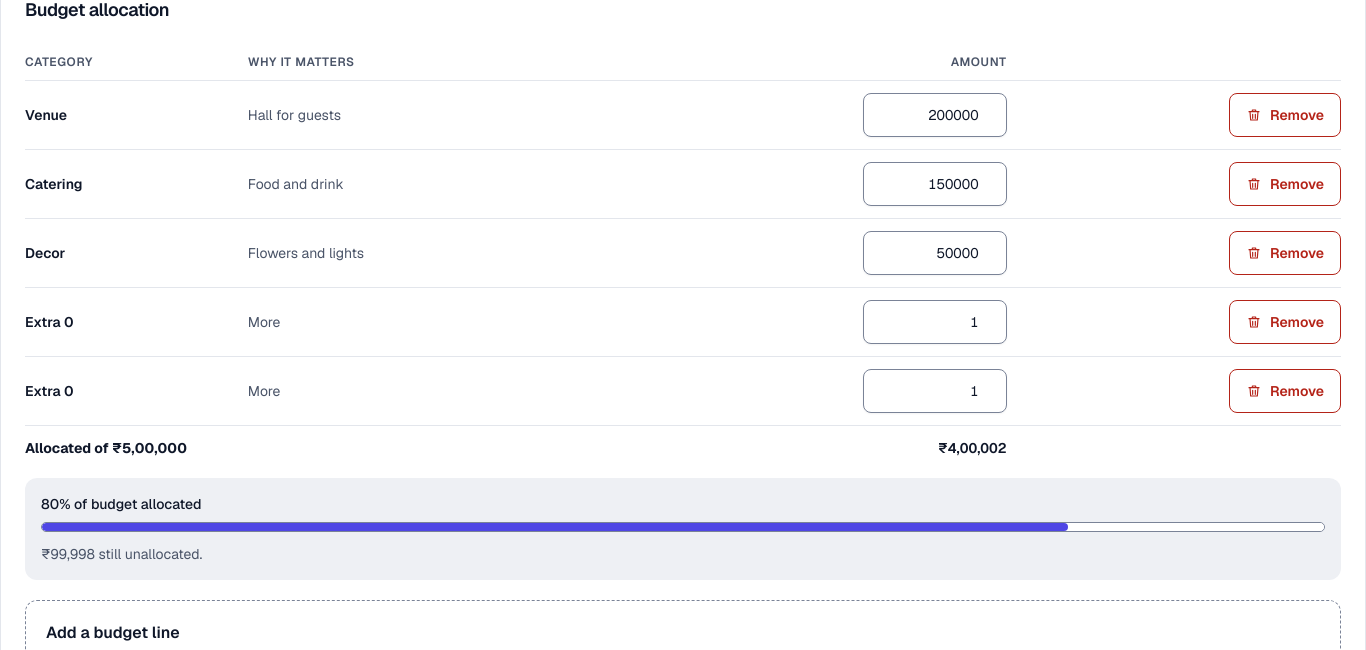
Test: BudgetTable (remove line) › offers Undo for the latest removal only
Click the button with aria-label "Remove Venue" at (1285, 115), box [1229,93,1341,137]
(page scrolled)
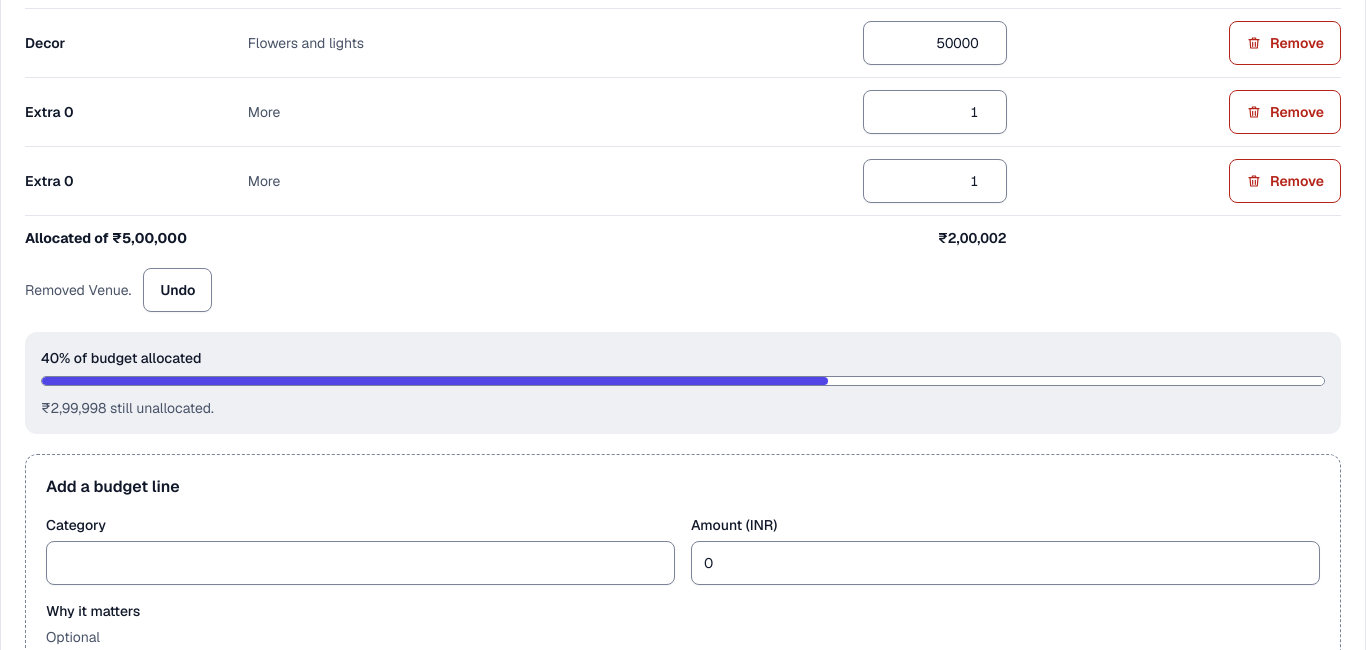
Click the button with aria-label "Remove Decor" at (1285, 43), box [1229,21,1341,65]
(page scrolled)
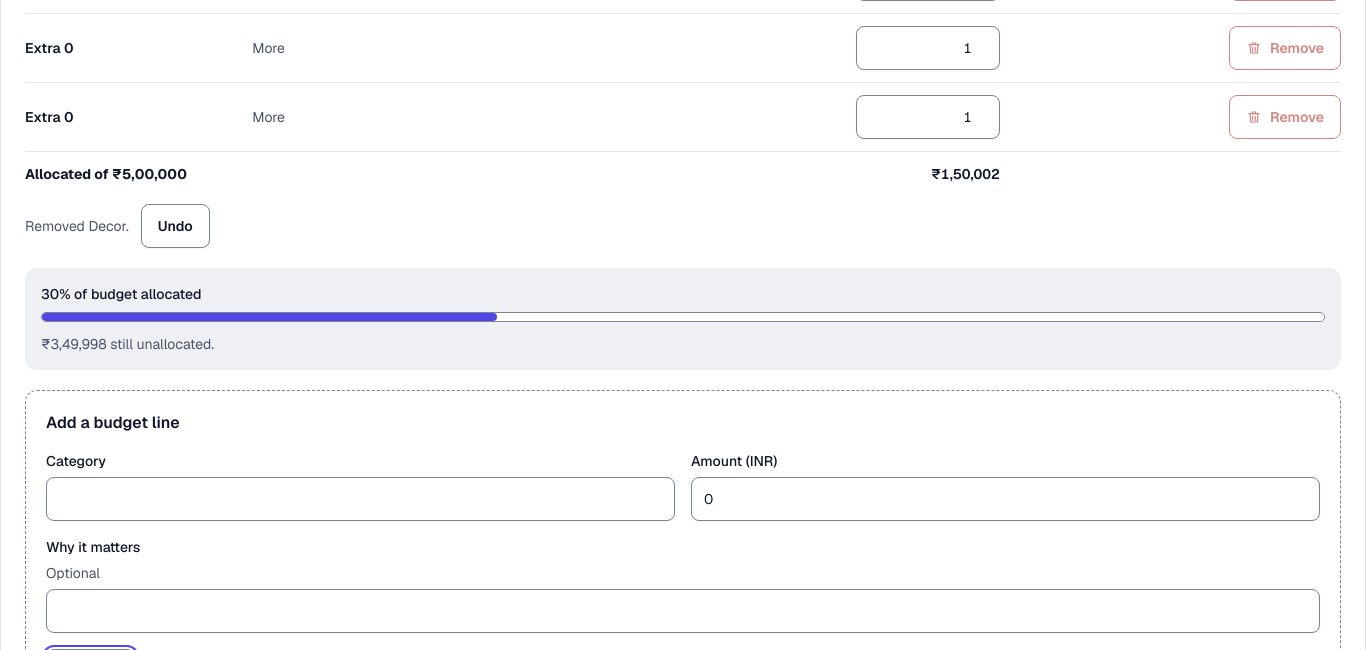
Now the number of buttons "Undo" is 1, box [141,204,210,248]
